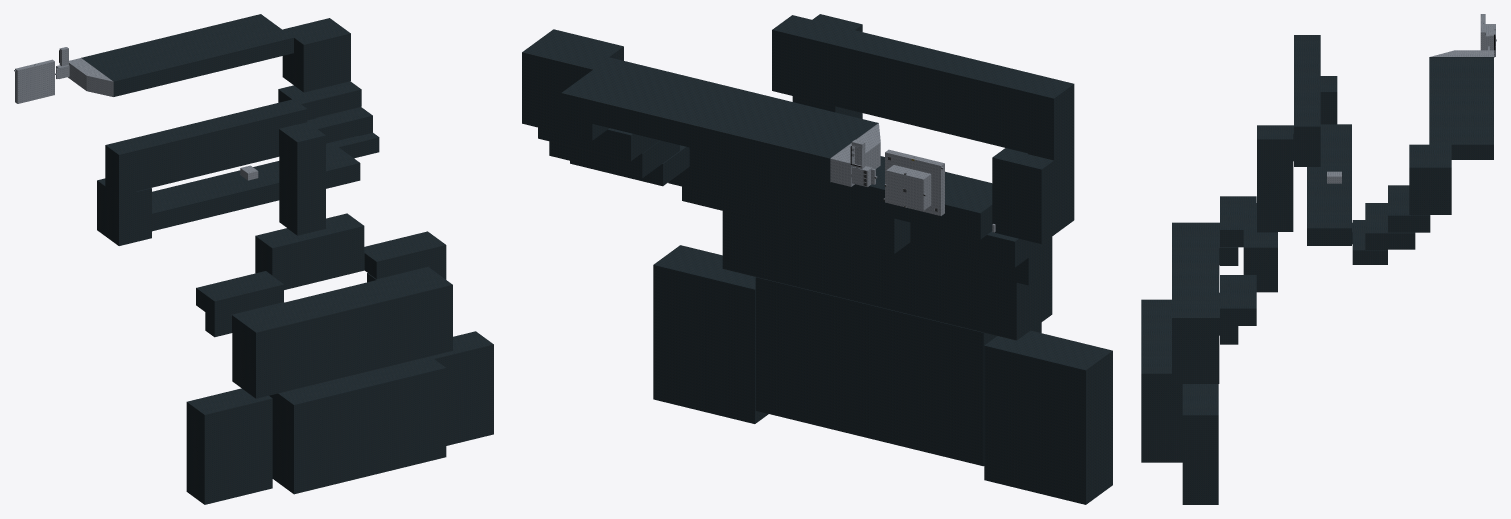
The model's file is surf_rebel_resistance_final2.obj.
3 renders of one model, left to right at view 1: azimuth 30°, elevation 25°; view 2: azimuth 150°, elevation 25°; view 3: azimuth 270°, elevation 25°, orthographic. The views are drawn at different scales.
Parts seen in each view (by area): view 1: VBSP_Object.model_0; view 2: VBSP_Object.model_0; view 3: VBSP_Object.model_0.
Part boxes in pixels (box(x1,y1,x2,y2)): VBSP_Object.model_0: box(14, 14, 493, 504); VBSP_Object.model_0: box(522, 14, 1112, 504); VBSP_Object.model_0: box(1141, 14, 1496, 504).
Bounding box in the file's own units: 21624 × 21401 × 20400.
24 materials, 23 textured.
